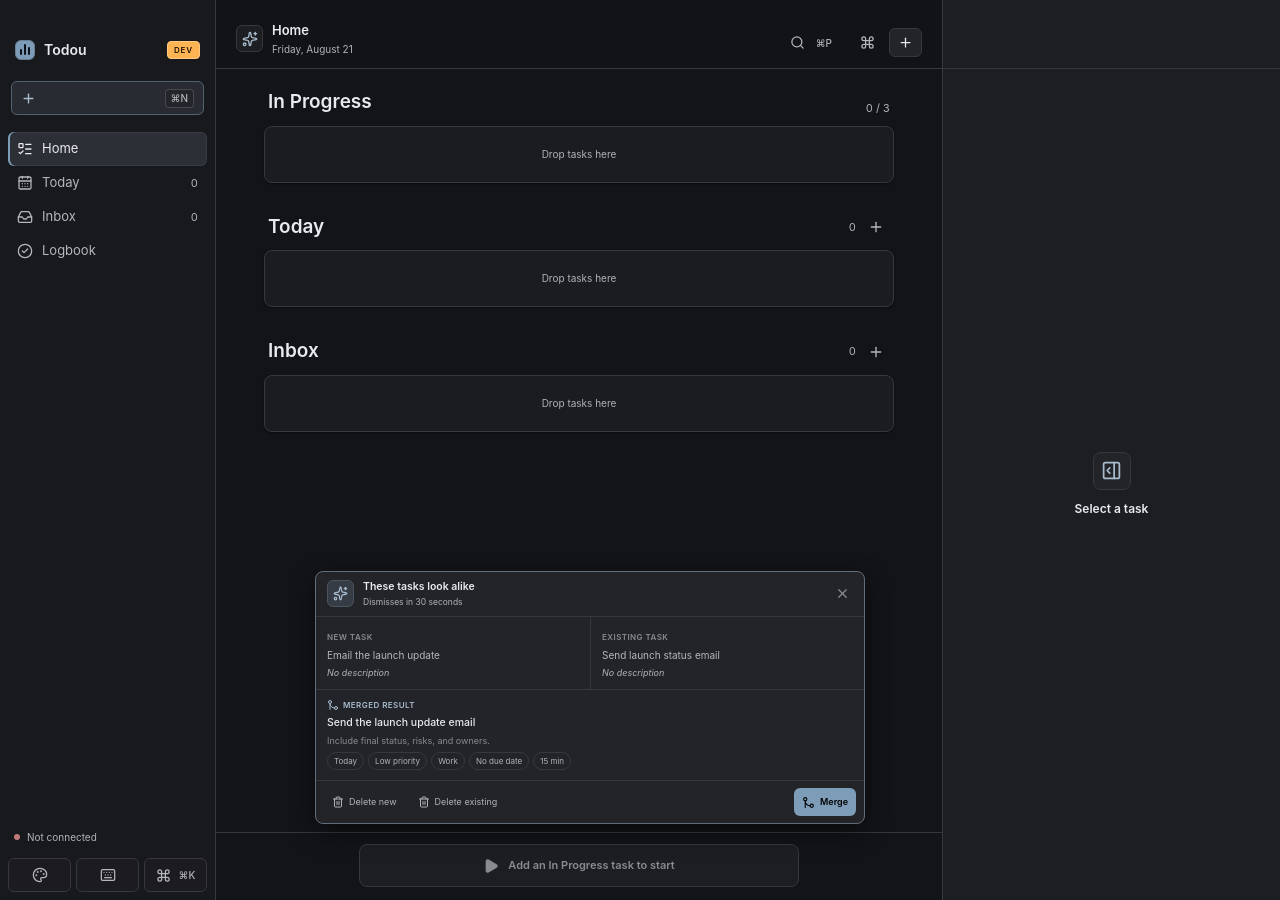
Test case: App AI de-duplication lifecycle › immediately requeues a stale resolution instead of treating it as merged
Expected: the element named "Possible duplicate tasks" is shown, top-left (315, 571), bottom-right (865, 824)
Click the button with aria-label "Merge tasks" at (825, 802), box top-left (794, 788), bottom-right (856, 816)
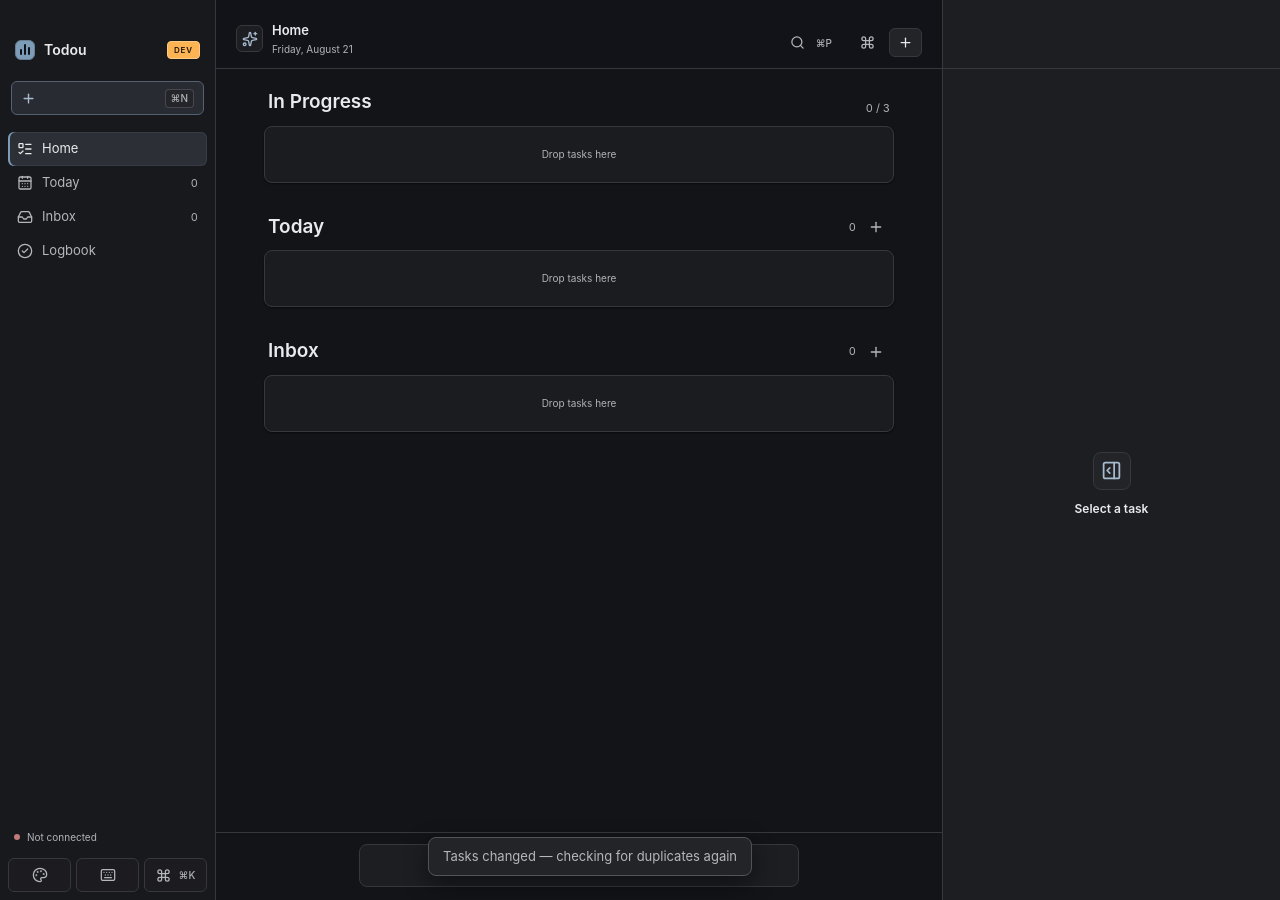
Expected: the text "Tasks changed — checking for duplicates again" is shown, top-left (428, 837), bottom-right (752, 876)
